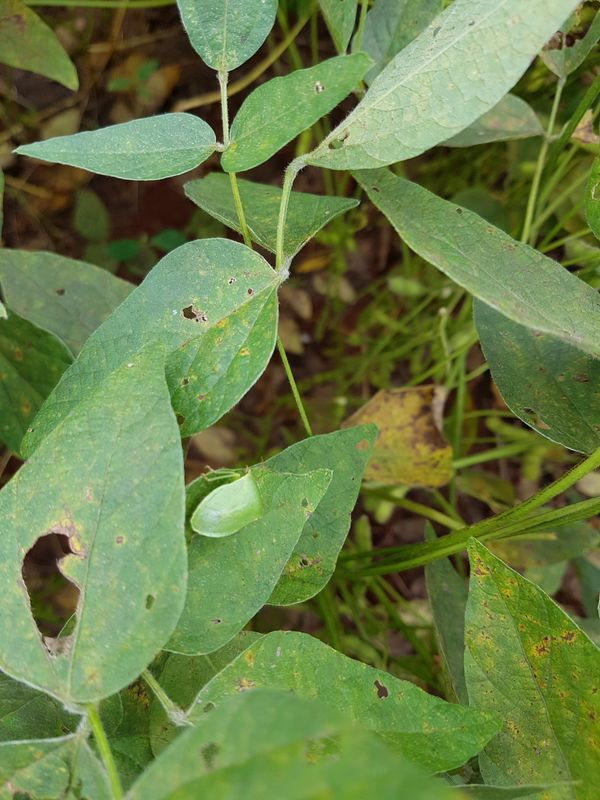Nezara_viridula_adulto: (175, 453, 277, 544)
